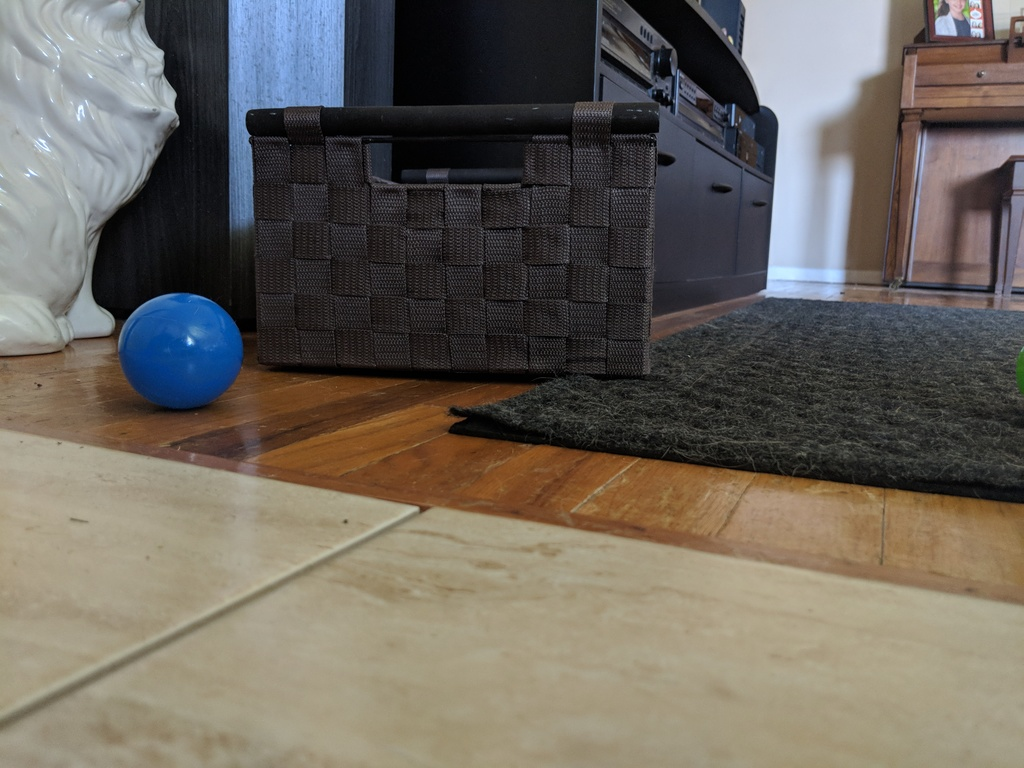ball: (116, 288, 246, 414)
